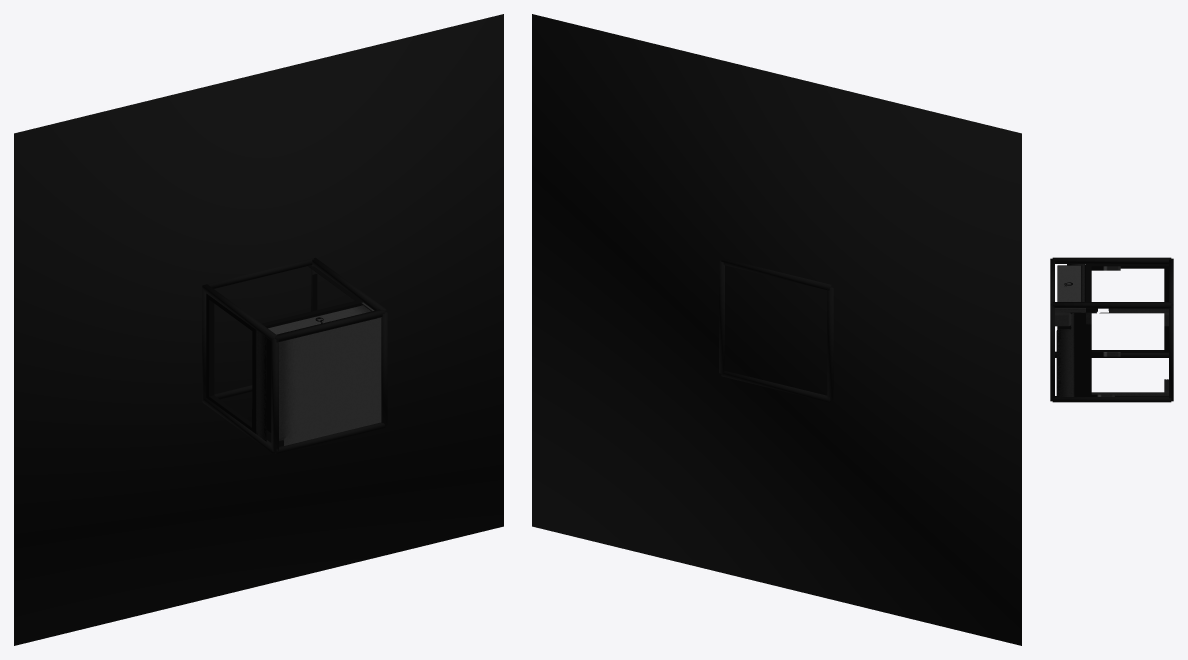
The picture shows the model from 3 angles, left to right: view 1: azimuth 30°, elevation 25°; view 2: azimuth 150°, elevation 25°; view 3: azimuth 270°, elevation 25°; orthographic projection. The views are drawn at different scales.
Bounding box in the file's own units: 2 × 2 × 0.519.
